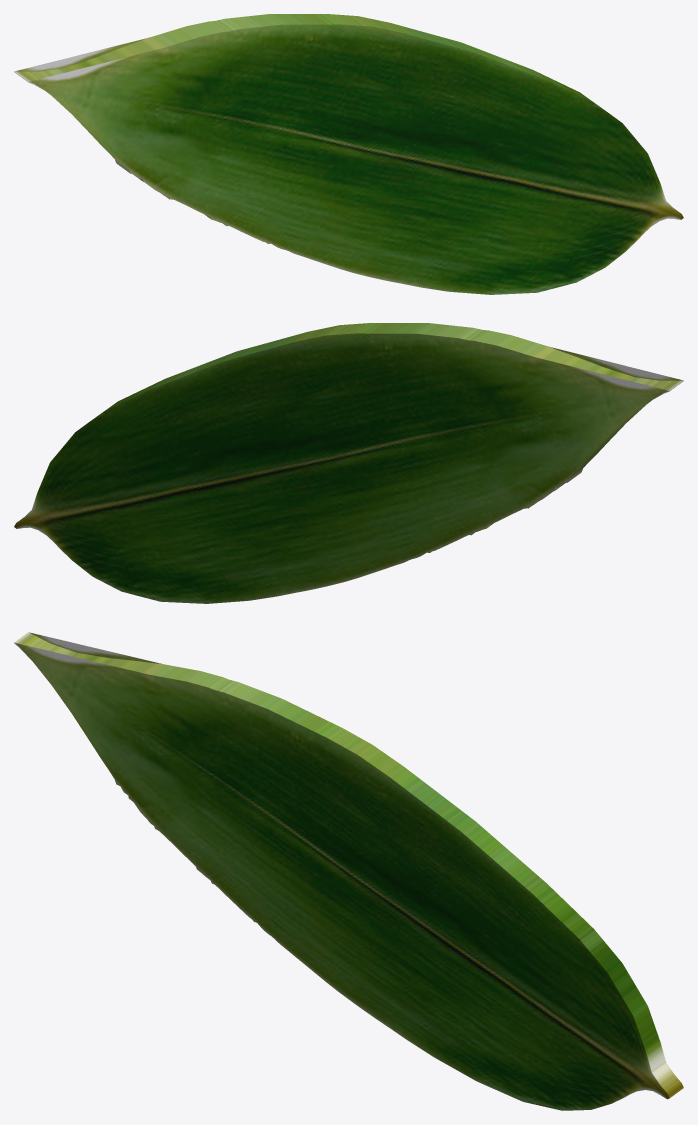
Rendered from Daun_Bambu.fbx.
The picture shows the model from 3 angles, top to bottom: view 1: azimuth 30°, elevation 25°; view 2: azimuth 150°, elevation 25°; view 3: azimuth 330°, elevation 25°; orthographic projection.
Parts seen in each view (by area): view 1: Trace; view 2: Trace; view 3: Trace.
Boxes of the visible parts, <box> form: Trace: <box>14,14,683,294</box>; Trace: <box>14,323,683,603</box>; Trace: <box>14,632,683,1110</box>.
Bounding box in the file's own units: 1012 × 499 × 38.22.
1 material, 1 textured.
